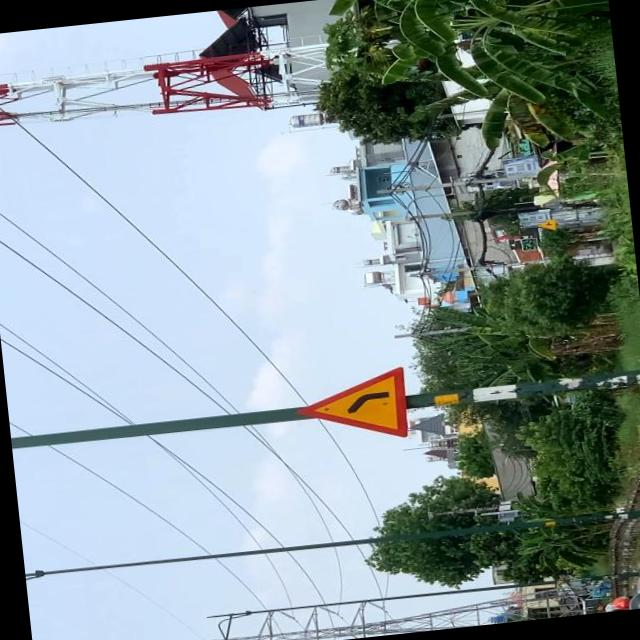W-201a: (289, 366, 410, 448)
